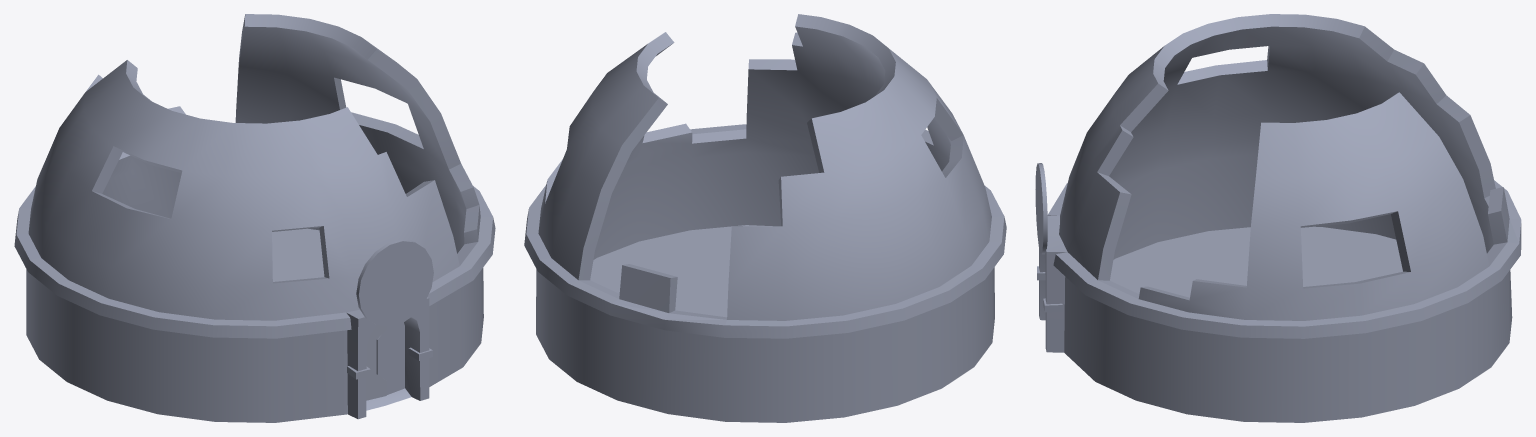
File: Location.gltf
3 views of the same model, side by side, from view 1: azimuth 30°, elevation 25°; view 2: azimuth 150°, elevation 25°; view 3: azimuth 270°, elevation 25° (orthographic).
Visible parts, largest first — view 1: Cylinder001, Object013, Plane003, Object001; view 2: Cylinder001; view 3: Cylinder001, Object013, Cylinder004.
Part boxes in pixels (left/top/right/bottom): Cylinder001: left=14, top=14, right=495, bottom=422; Object013: left=359, top=241, right=433, bottom=326; Plane003: left=376, top=322, right=404, bottom=394; Object001: left=366, top=325, right=386, bottom=400; Cylinder001: left=524, top=14, right=1006, bottom=422; Cylinder001: left=1037, top=14, right=1521, bottom=422; Object013: left=1035, top=163, right=1043, bottom=253; Cylinder004: left=1038, top=163, right=1047, bottom=254.
Size of the model in its own units: 7.06 by 4.18 by 7.14.
